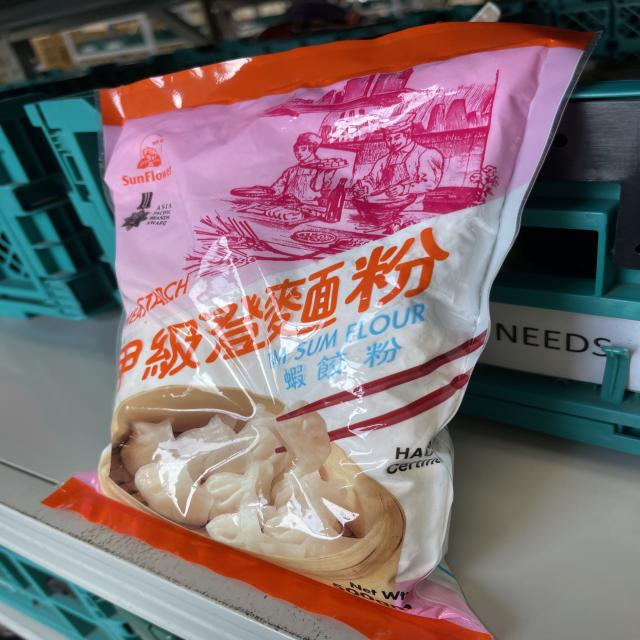object_name: (111, 80, 435, 573)
